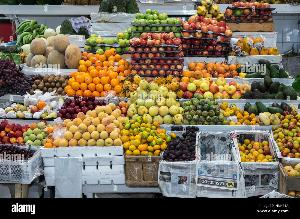apple: (84, 8, 180, 52), (130, 34, 182, 76), (184, 16, 234, 56), (184, 76, 248, 100), (222, 2, 272, 30), (57, 96, 103, 120)
apricot: (46, 104, 122, 148)
avocado: (244, 58, 300, 100)
grape: (0, 50, 30, 96)
kiwi: (30, 70, 68, 92)
orange: (70, 44, 132, 98), (181, 57, 247, 83)
peach: (1, 120, 30, 146)
pear: (0, 94, 58, 118)
